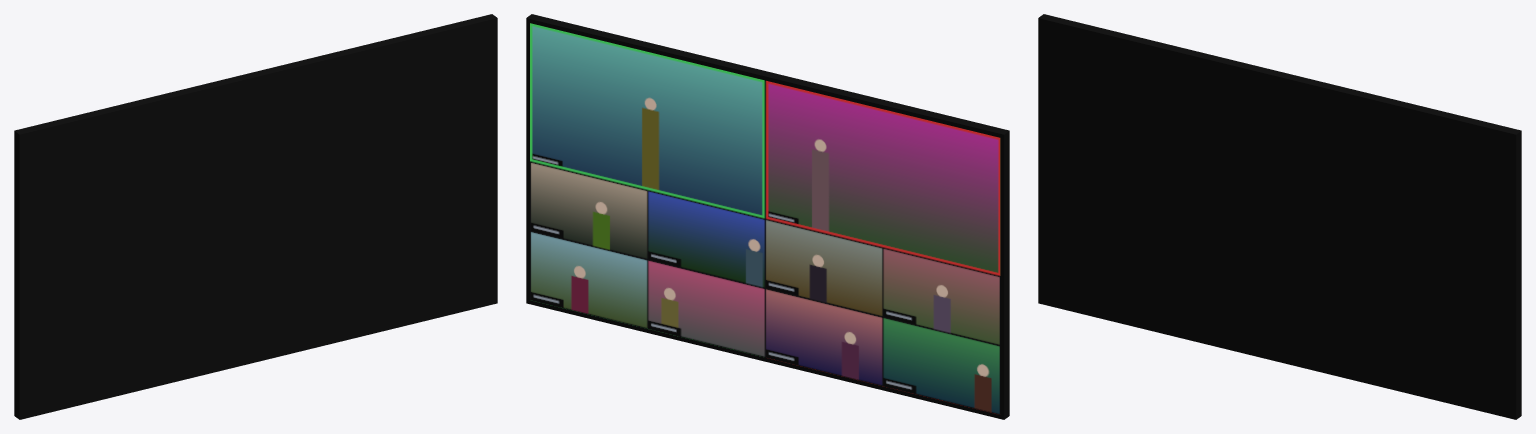
The model's file is monitor_55.gltf.
3 renders of one model, left to right at view 1: azimuth 30°, elevation 25°; view 2: azimuth 150°, elevation 25°; view 3: azimuth 330°, elevation 25°, orthographic.
Parts seen in each view (by area): view 1: monitor_55; view 2: monitor_55; view 3: monitor_55.
Part boxes in pixels (box(x1,y1,x2,y2)): monitor_55: box(14, 14, 497, 419); monitor_55: box(526, 14, 1009, 419); monitor_55: box(1038, 14, 1521, 419).
Bounding box in the file's own units: 1.24 × 0.7045 × 0.0251.
Materials: 2 (2 with a texture image).
